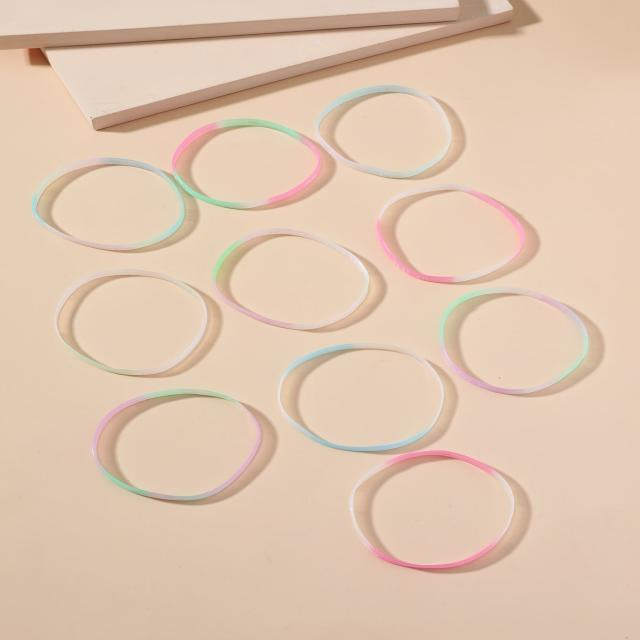bracelet: (70, 351, 298, 524), (419, 255, 640, 423), (331, 423, 551, 589), (324, 156, 573, 294), (257, 318, 488, 462), (29, 130, 216, 268), (204, 219, 411, 341), (63, 249, 245, 377), (316, 66, 493, 191), (166, 105, 345, 226)
